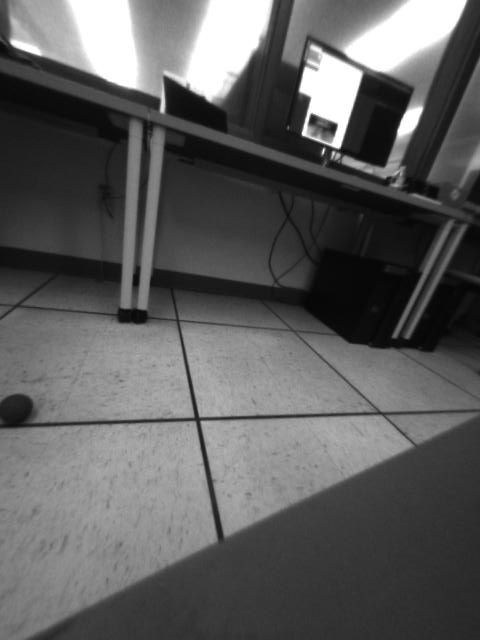dogtoy: (1, 390, 42, 433)
